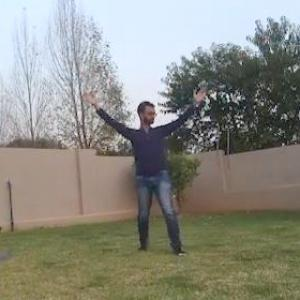takeoff: (82, 87, 215, 253)
